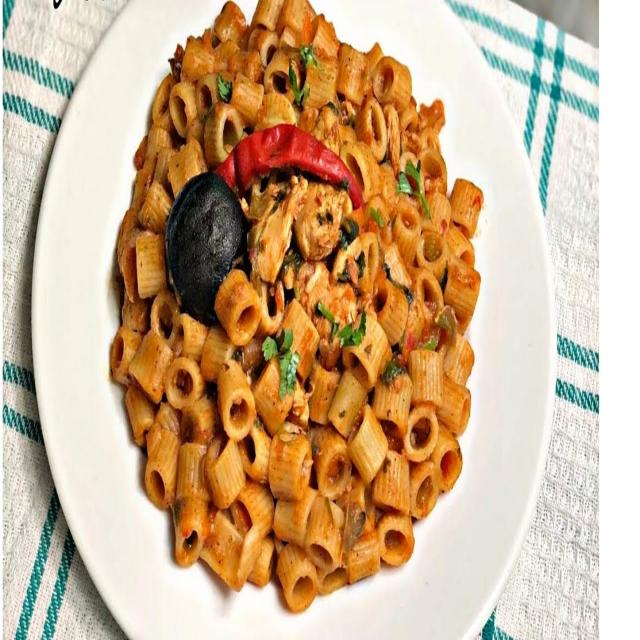Pasta: (110, 6, 456, 581)
